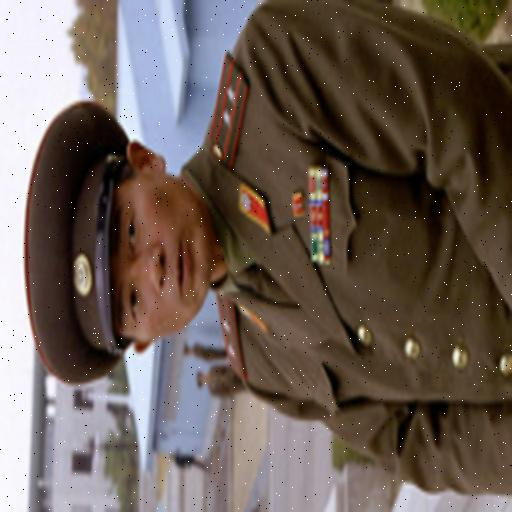north army: (3, 27, 512, 492)
